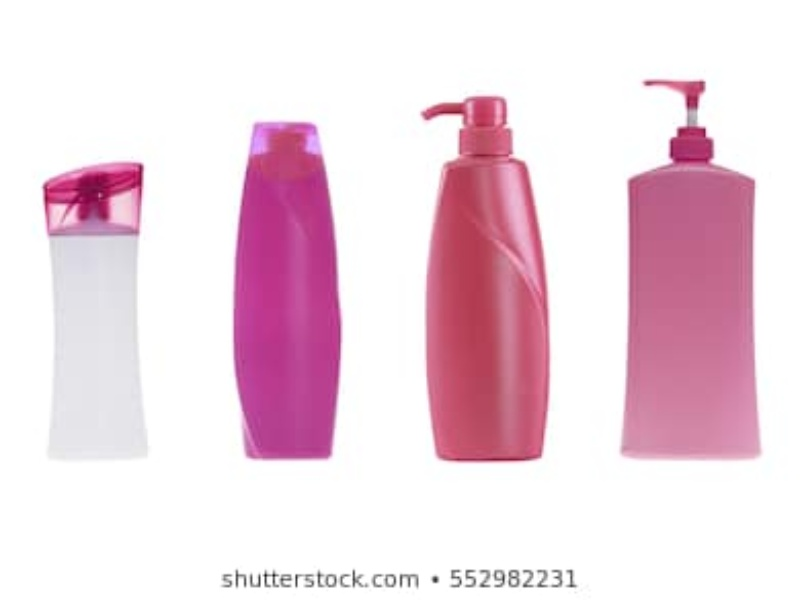shampoo-bottle: (619, 77, 766, 463), (418, 94, 552, 466), (229, 116, 340, 465), (41, 161, 155, 463)
